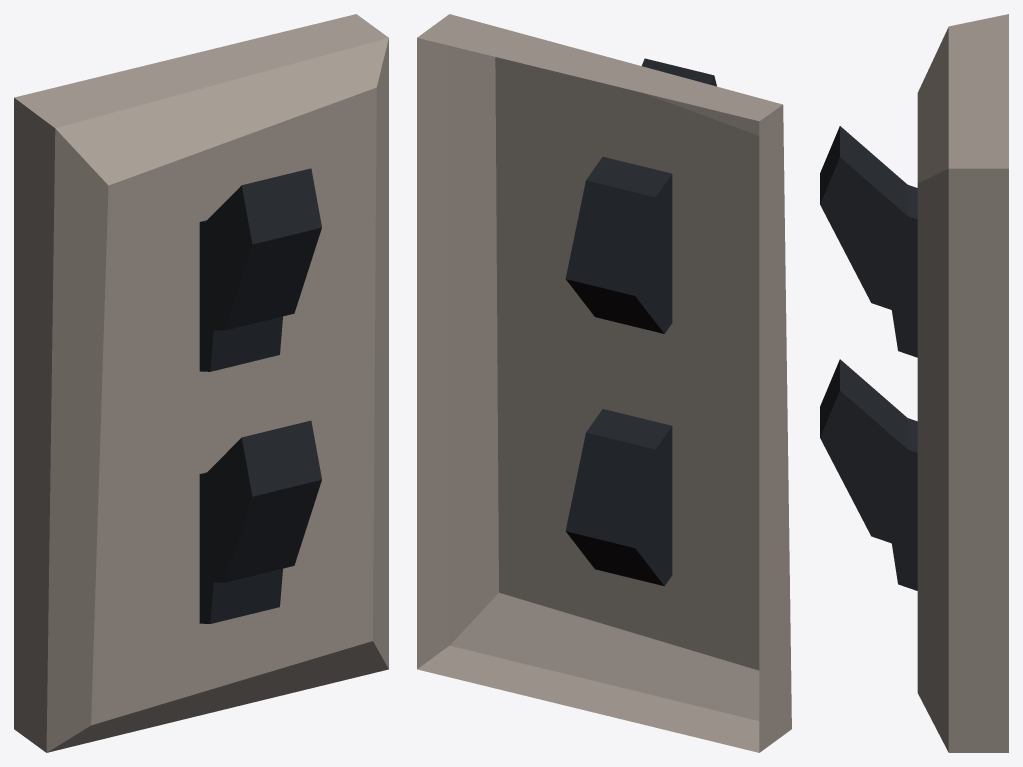
File: SM_Switch_A.fbx
3 renders of one model, left to right at view 1: azimuth 30°, elevation 25°; view 2: azimuth 150°, elevation 25°; view 3: azimuth 270°, elevation 25°, orthographic. The views are drawn at different scales.
Parts seen in each view (by area): view 1: SM_Switch_A; view 2: SM_Switch_A; view 3: SM_Switch_A.
Boxes of the visible parts, box(x1,y1,x2,y2) form: SM_Switch_A: box(14, 14, 388, 752); SM_Switch_A: box(417, 14, 791, 752); SM_Switch_A: box(820, 14, 1008, 752).
Size of the model in its own units: 12.7 by 22.38 by 6.56.
